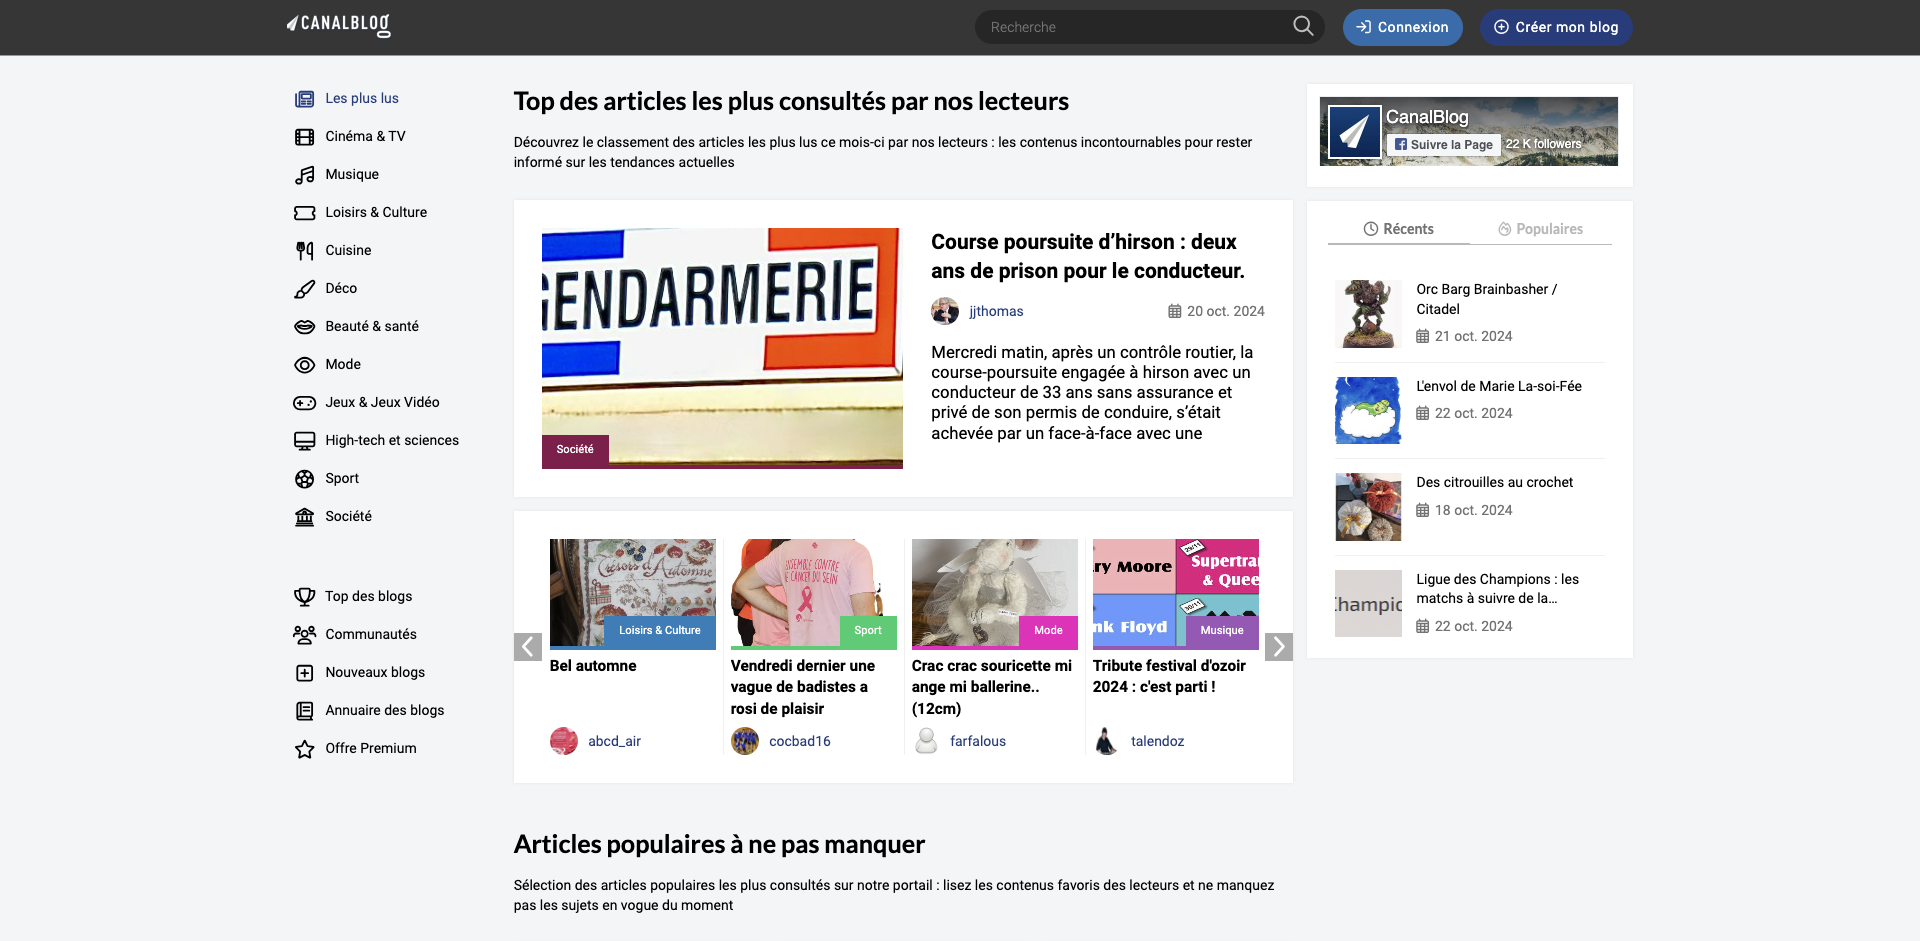button: (1480, 9, 1633, 47), (1342, 9, 1463, 47), (1286, 10, 1325, 44), (513, 633, 541, 662), (1265, 633, 1293, 662)
input: (975, 10, 1325, 44)
link: (932, 228, 1265, 287), (187, 656, 354, 720), (731, 656, 896, 720), (912, 656, 1078, 720), (287, 0, 470, 55), (6, 656, 173, 698), (1092, 656, 1259, 698), (1417, 281, 1591, 320), (1417, 570, 1591, 609), (279, 83, 491, 111), (279, 121, 491, 149), (279, 159, 491, 187), (279, 197, 491, 225), (279, 235, 491, 263), (279, 273, 491, 301), (279, 311, 491, 339), (279, 349, 491, 377), (279, 387, 491, 415), (279, 582, 491, 610), (279, 620, 491, 648), (279, 658, 491, 686), (279, 696, 491, 724), (279, 734, 491, 762), (279, 426, 491, 453), (279, 464, 491, 491), (279, 502, 491, 529), (1469, 216, 1611, 245), (1329, 216, 1469, 245), (369, 656, 535, 678), (550, 656, 715, 678), (1417, 376, 1591, 396), (1417, 473, 1591, 493), (45, 733, 120, 750), (769, 733, 831, 750), (950, 733, 1007, 750), (227, 733, 279, 750), (588, 733, 640, 750), (1131, 733, 1184, 750), (970, 303, 1024, 319), (407, 733, 448, 750)
